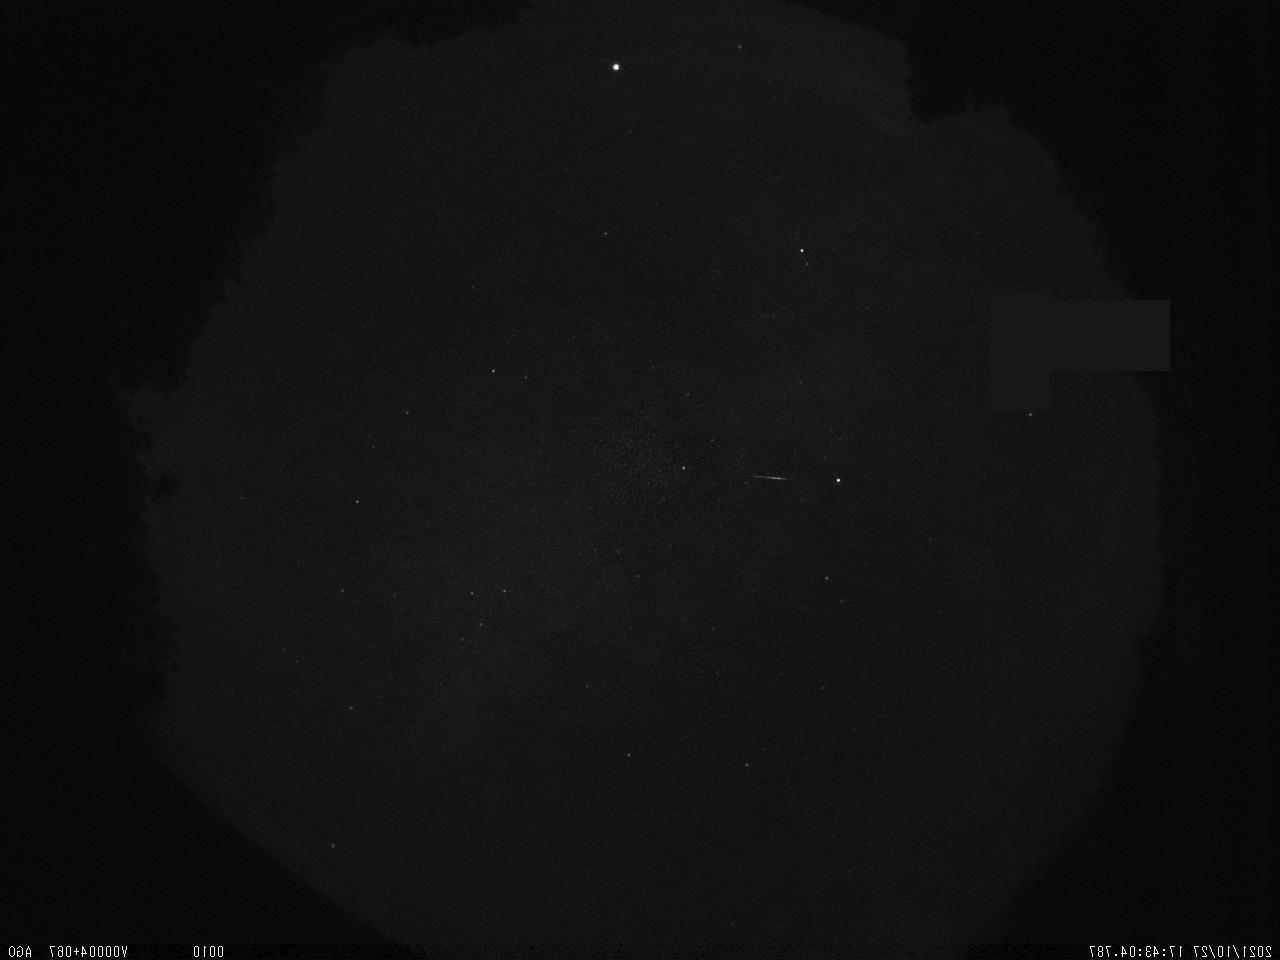meteor: (740, 467, 802, 490)
